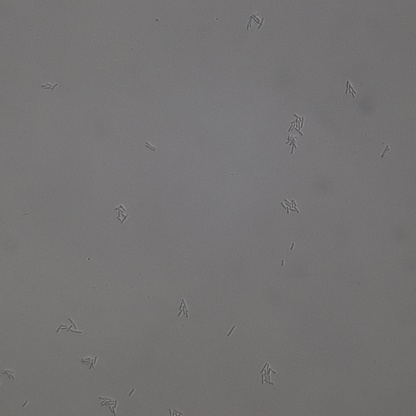R(colony): (56, 318, 83, 334), (288, 111, 305, 135), (260, 362, 276, 385), (99, 396, 117, 416), (247, 12, 265, 29), (114, 204, 129, 224), (281, 198, 299, 213), (286, 136, 299, 156), (176, 299, 190, 317), (345, 80, 357, 99), (80, 356, 96, 370), (3, 369, 16, 381), (41, 82, 58, 90), (145, 143, 156, 151)
